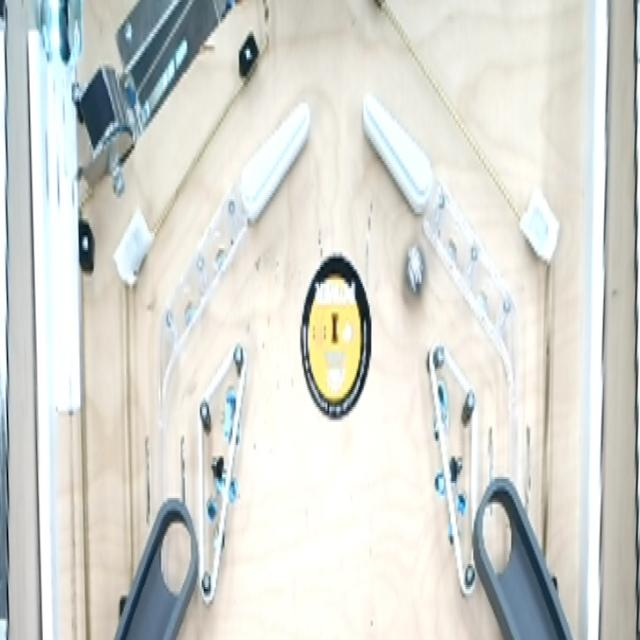ball: (401, 243, 428, 307)
flipper-left: (358, 87, 441, 221)
flipper-right: (238, 91, 312, 241)
